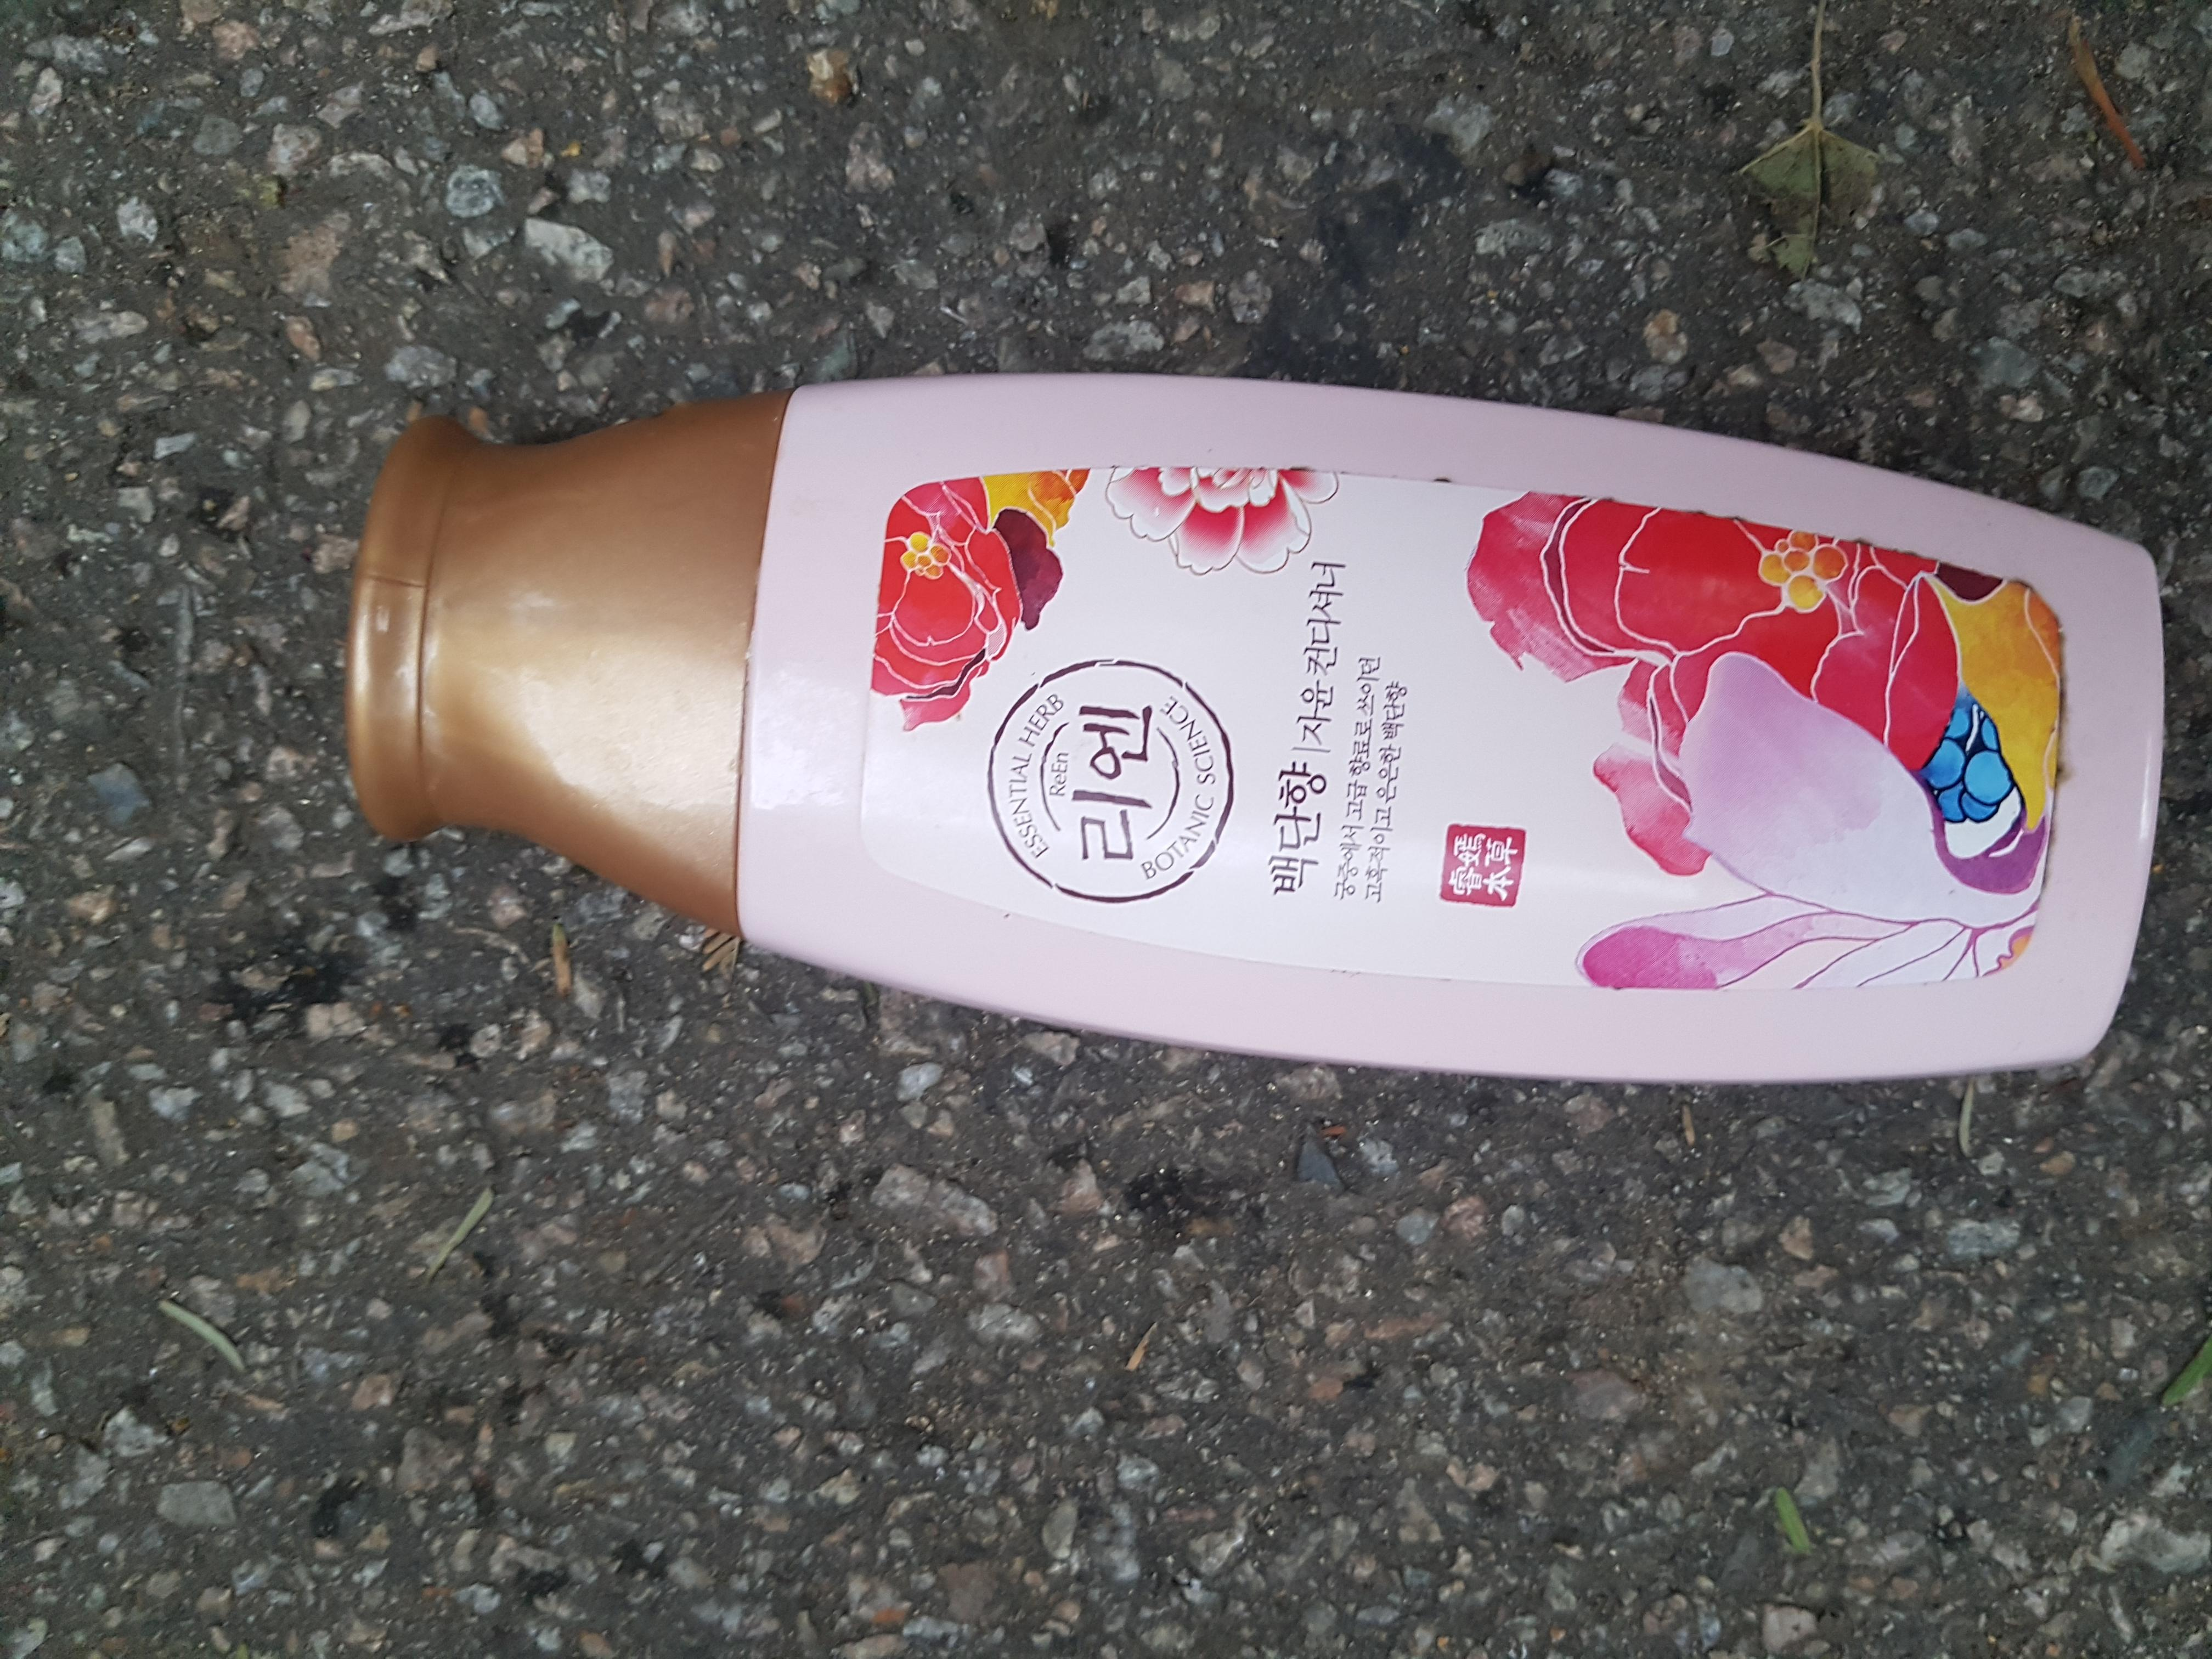bottle: (700, 840, 1733, 995)
